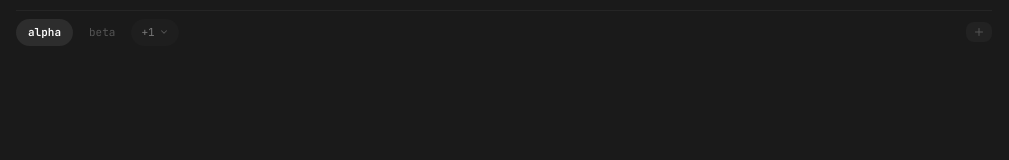
Test: RepoSelector › keeps pinned repos in most-recent order
expect the tab "alpha" is shown: met, box 16,19 -> 73,46
Click the tab "beta". click: point(102, 32)
box: 77,19 -> 127,46
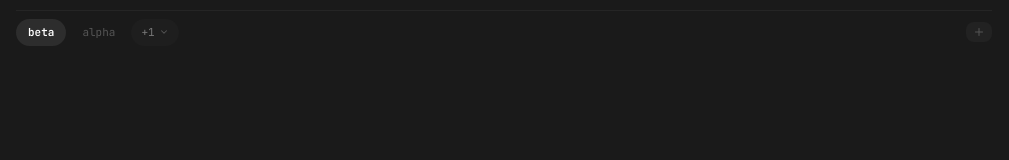
Click the button "+1". click: point(155, 32)
box: 131,19 -> 179,46
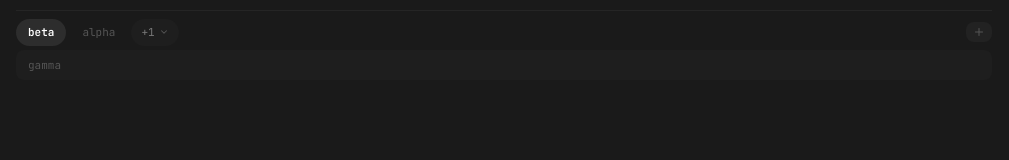
Click the option "gamma". click: point(44, 64)
box: 20,52 -> 988,77
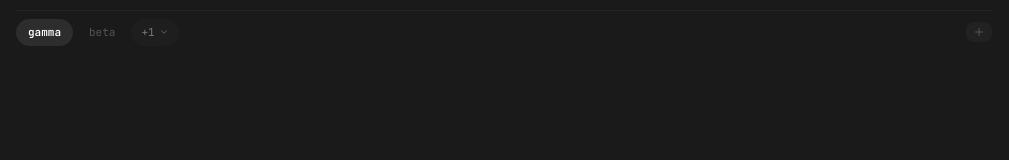
expect the tabs read "gamma", "beta", in this order: met, box 16,19 -> 73,46; 77,19 -> 127,46
